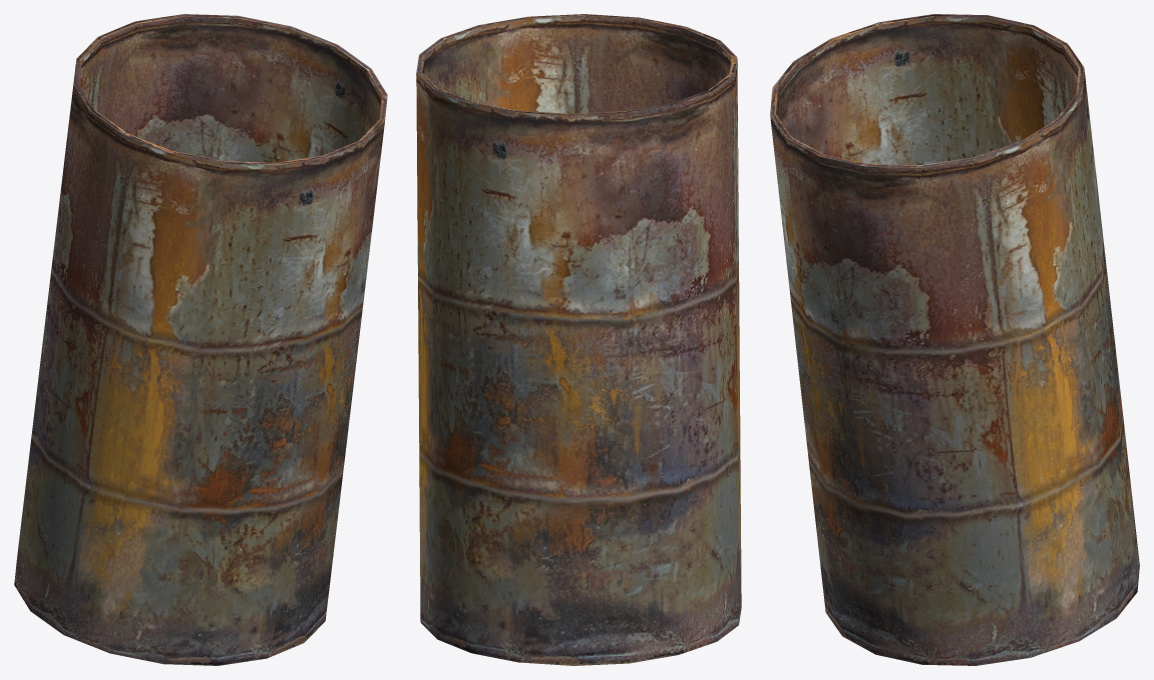
The model's file is BarrelTest.fbx.
3 views of the same model, side by side, from view 1: azimuth 30°, elevation 25°; view 2: azimuth 150°, elevation 25°; view 3: azimuth 270°, elevation 25° (orthographic).
Parts seen in each view (by area): view 1: mesh_0.4760; view 2: mesh_0.4760; view 3: mesh_0.4760.
Part boxes in pixels (bbox=[...]): mesh_0.4760: bbox=[14, 14, 387, 665]; mesh_0.4760: bbox=[416, 14, 741, 665]; mesh_0.4760: bbox=[770, 14, 1139, 665].
Bounding box in the file's own units: 0.7487 × 1.28 × 0.7817.
